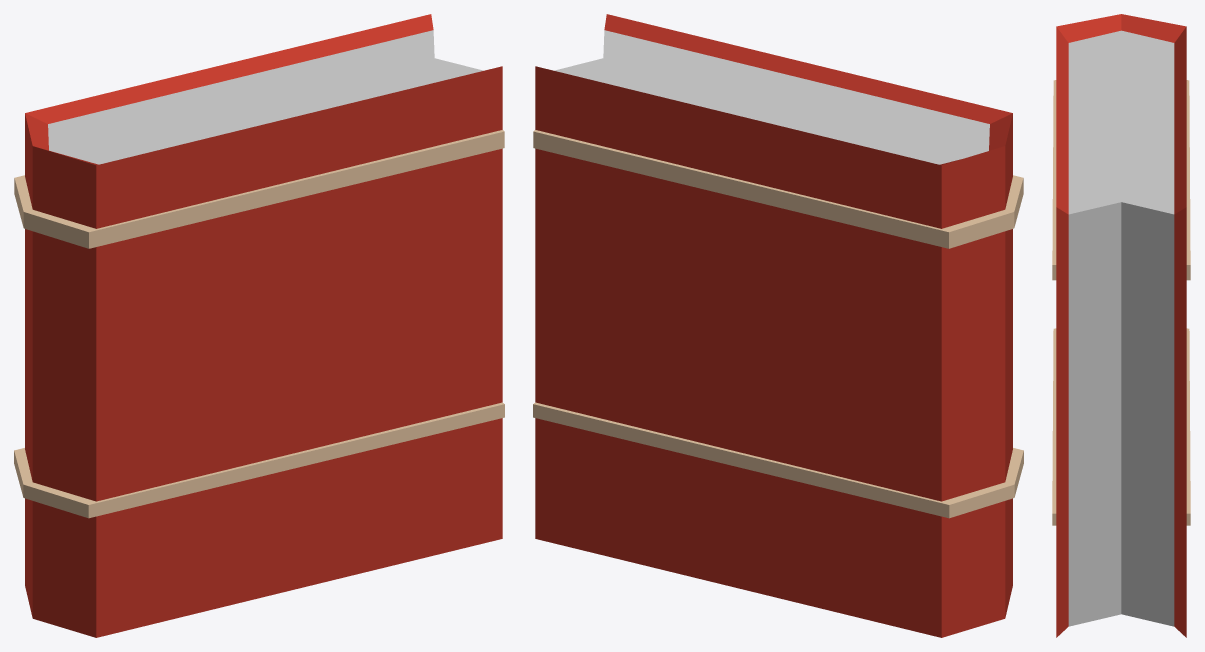
The model's file is book1.fbx.
3 renders of one model, left to right at view 1: azimuth 30°, elevation 25°; view 2: azimuth 150°, elevation 25°; view 3: azimuth 270°, elevation 25°, orthographic. The views are drawn at different scales.
Visible parts, largest first — view 1: book1; view 2: book1; view 3: book1.
Boxes of the visible parts, x1,y1,x2,y2 form: book1: [14, 14, 504, 637]; book1: [533, 14, 1023, 637]; book1: [1052, 14, 1190, 637].
Size of the model in its own units: 28.53 by 29.06 by 8.46.
